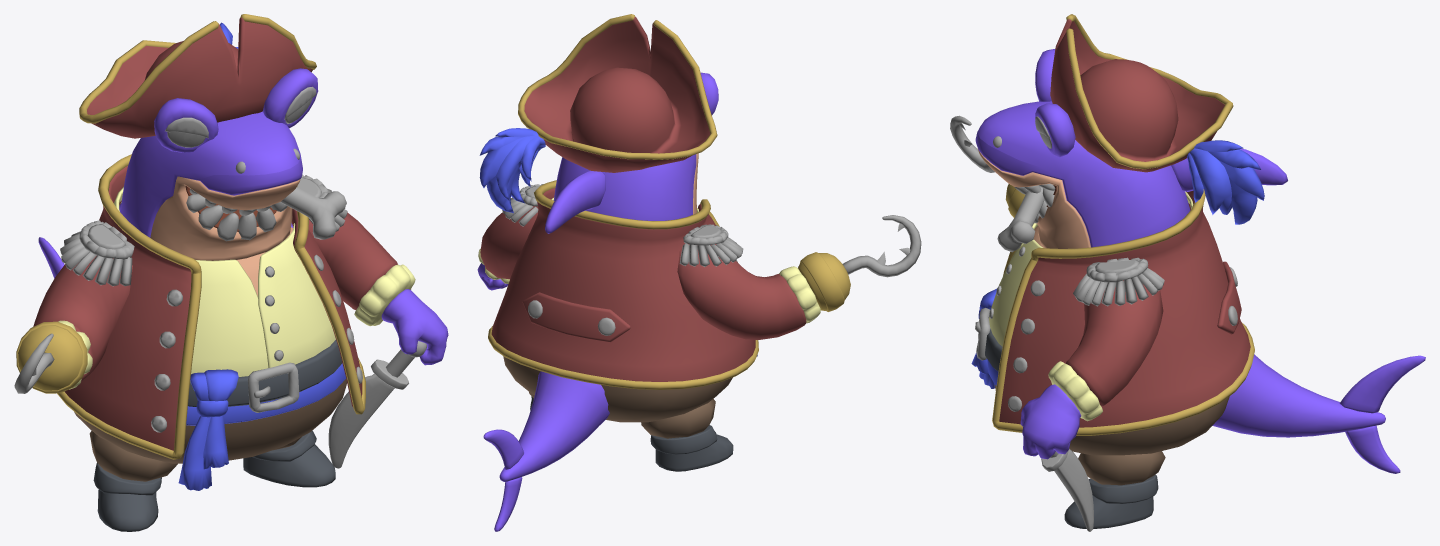
The model's file is TheCaptain.fbx.
3 views of the same model, side by side, from view 1: azimuth 30°, elevation 25°; view 2: azimuth 150°, elevation 25°; view 3: azimuth 270°, elevation 25° (orthographic). The views are drawn at different scales.
Visible parts, largest first — view 1: S_TheCaptain, M_TheCaptain, D_TheCaptain_22, D_TheCaptain_5, DL_TheCaptain_9, DL_TheCaptain_1; view 2: S_TheCaptain, M_TheCaptain, D_TheCaptain_22; view 3: S_TheCaptain, M_TheCaptain, D_TheCaptain_28.
Boxes of the visible parts, box(x1,y1,x2,y2) form: S_TheCaptain: box(14, 14, 448, 531); M_TheCaptain: box(16, 68, 415, 468); D_TheCaptain_22: box(79, 220, 134, 259); D_TheCaptain_5: box(247, 362, 299, 412); DL_TheCaptain_9: box(165, 117, 208, 138); DL_TheCaptain_1: box(371, 359, 408, 389); S_TheCaptain: box(477, 14, 921, 531); M_TheCaptain: box(478, 72, 850, 398); D_TheCaptain_22: box(683, 224, 728, 245); S_TheCaptain: box(950, 14, 1425, 528); M_TheCaptain: box(1005, 49, 1287, 531); D_TheCaptain_28: box(1086, 257, 1148, 282).
Bounding box in the file's own units: 712 × 706 × 665.
